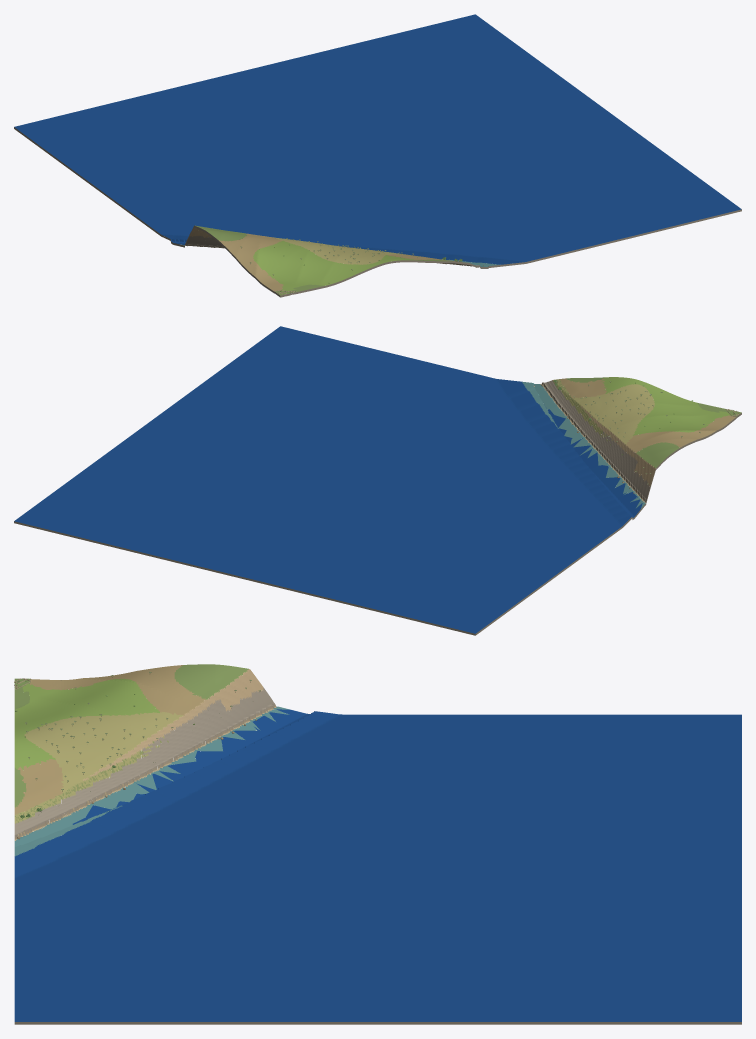
Rendered from parca_+11_+1-yakin.glb.
The picture shows the model from 3 angles, top to bottom: view 1: azimuth 30°, elevation 25°; view 2: azimuth 150°, elevation 25°; view 3: azimuth 270°, elevation 25°; orthographic projection. The views are drawn at different scales.
Parts seen in each view (by area): view 1: parca_+11_+1_arazi; view 2: parca_+11_+1_arazi; view 3: parca_+11_+1_arazi.
Part boxes in pixels (x1=…): parca_+11_+1_arazi: x1=14, y1=14, x2=741, y2=297; parca_+11_+1_arazi: x1=14, y1=326, x2=741, y2=635; parca_+11_+1_arazi: x1=14, y1=664, x2=741, y2=1024.
Size of the model in its own units: 1001 by 80.02 by 1001.
